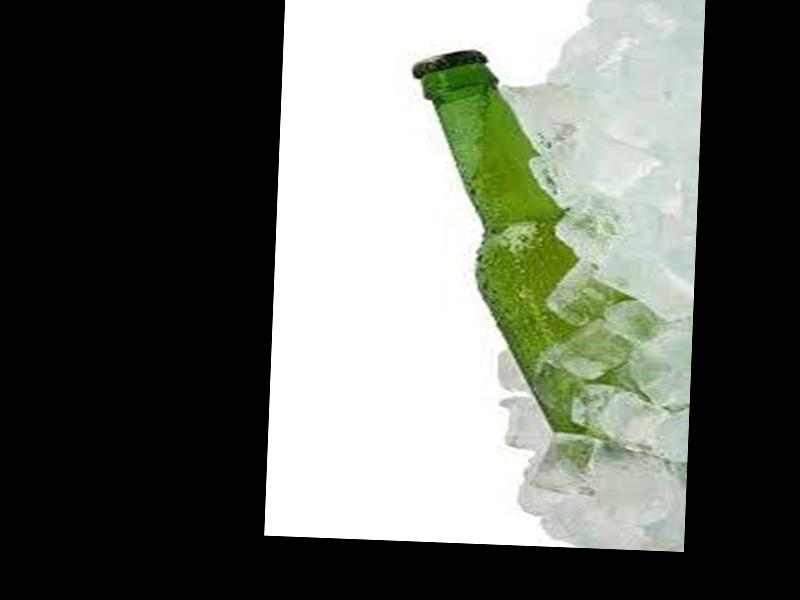Beer: (400, 43, 622, 464)
